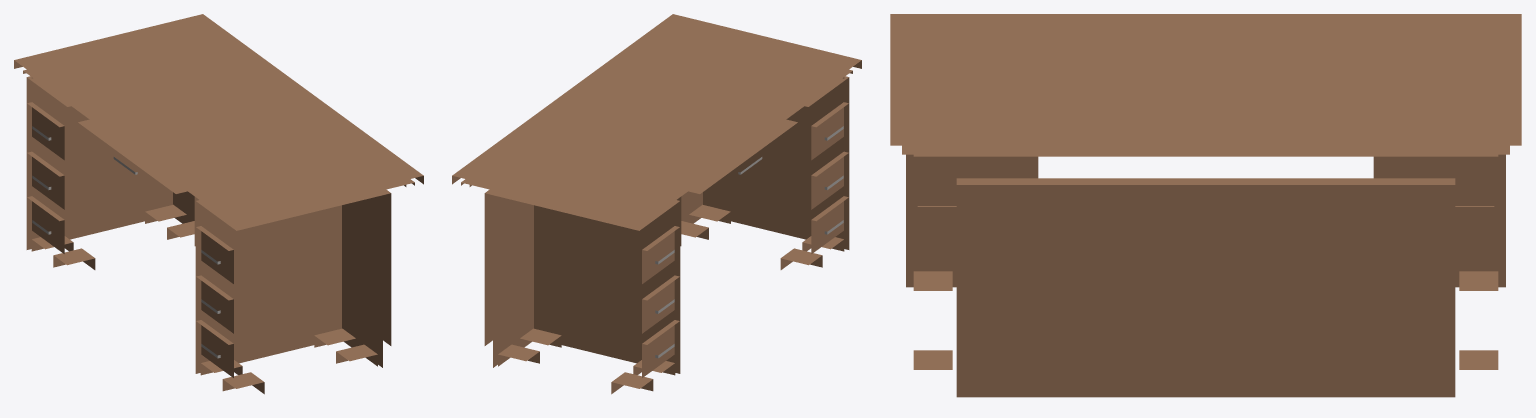
File: executive_desk.glb
3 renders of one model, left to right at view 1: azimuth 30°, elevation 25°; view 2: azimuth 150°, elevation 25°; view 3: azimuth 270°, elevation 25°, orthographic. The views are drawn at different scales.
Visible parts, largest first — view 1: WalnutBody, MetalHardware; view 2: WalnutBody, MetalHardware; view 3: WalnutBody.
Boxes of the visible parts, x1,y1,x2,y2 form: WalnutBody: [14, 14, 423, 394]; MetalHardware: [32, 126, 220, 358]; WalnutBody: [452, 14, 861, 394]; MetalHardware: [655, 126, 843, 358]; WalnutBody: [890, 14, 1521, 397].
Size of the model in its own units: 0.8 by 0.76 by 1.62.
